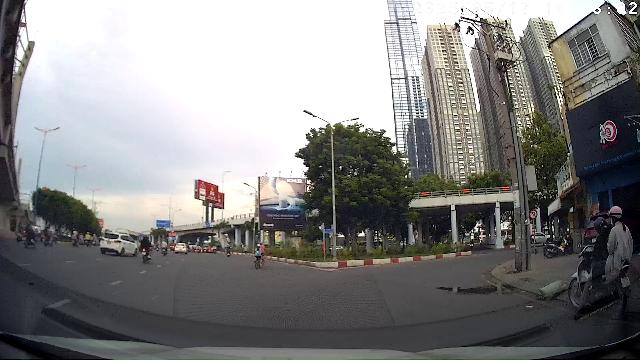123a-cam-re-trai: (530, 210, 538, 220)
